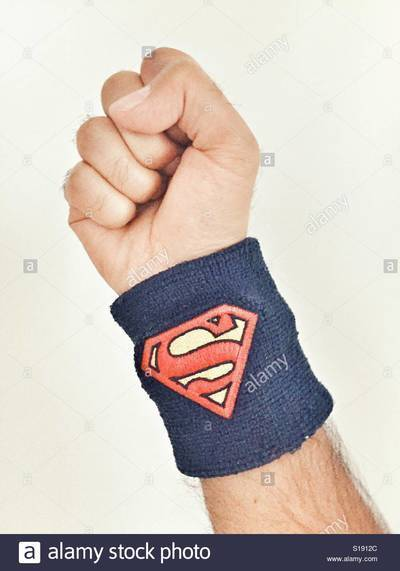closedhandfront: (32, 39, 272, 286)
